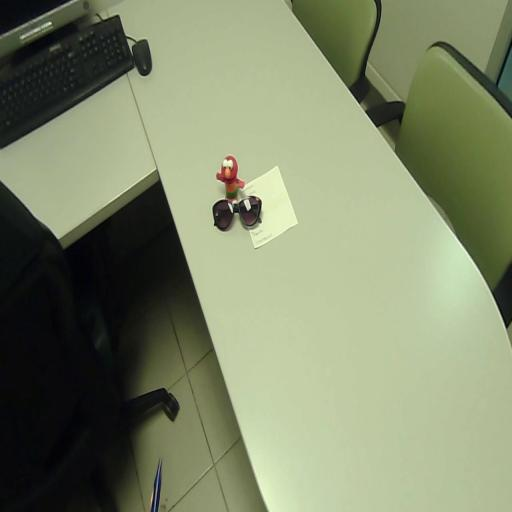pen: (150, 458, 161, 511)
